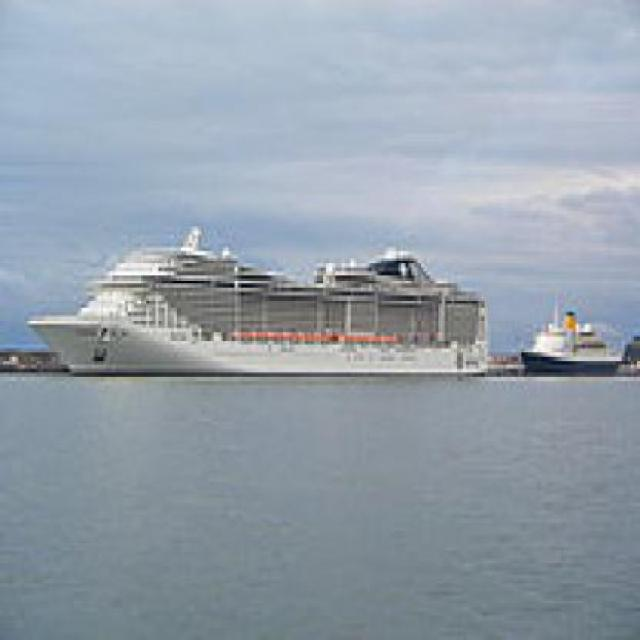cruise: (13, 224, 507, 390)
